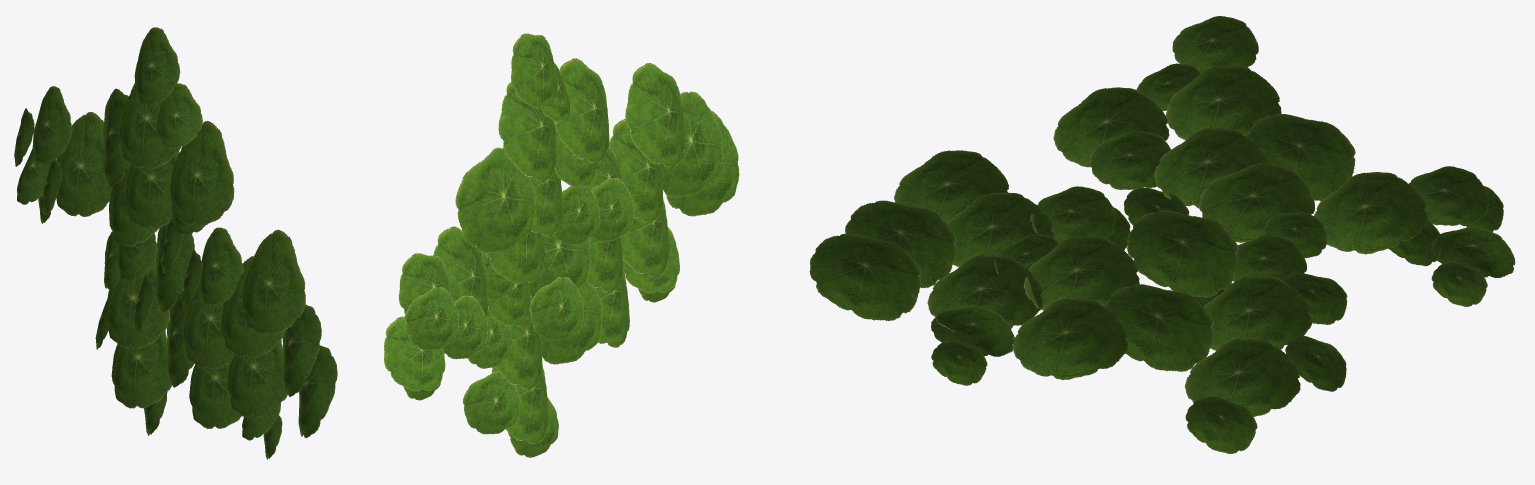
Rendered from vinewall3.fbx.
The picture shows the model from 3 angles, left to right: view 1: azimuth 30°, elevation 25°; view 2: azimuth 150°, elevation 25°; view 3: azimuth 270°, elevation 25°; orthographic projection. The views are drawn at different scales.
Parts seen in each view (by area): view 1: Plane.009; view 2: Plane.009; view 3: Plane.009.
Part boxes in pixels (x1,y1,x2,y2): Plane.009: (14,27,337,459); Plane.009: (383,33,739,457); Plane.009: (809,16,1515,453).
Size of the model in its own units: 23.68 by 171 by 247.
